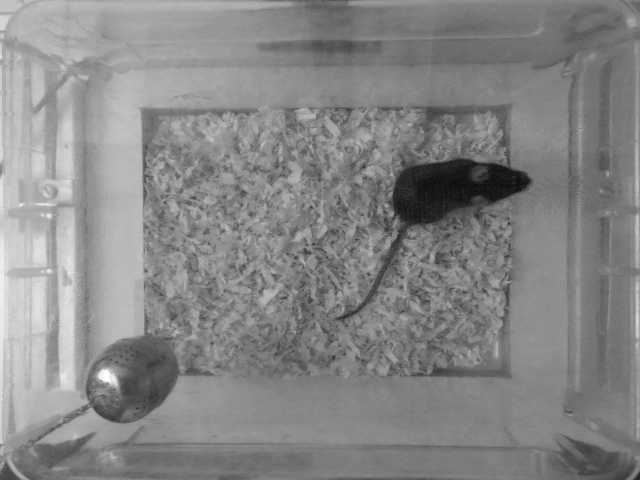mice: (332, 156, 536, 323)
